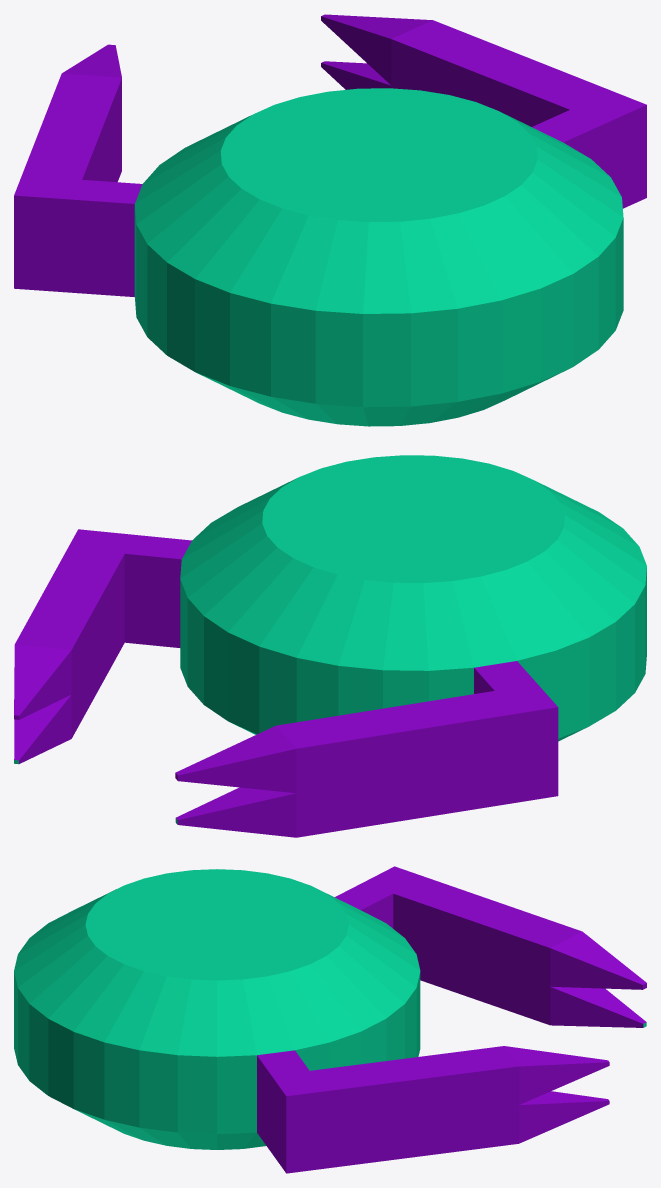
File: Knight.fbx
The picture shows the model from 3 angles, top to bottom: view 1: azimuth 30°, elevation 25°; view 2: azimuth 150°, elevation 25°; view 3: azimuth 270°, elevation 25°; orthographic projection. The views are drawn at different scales.
Visible parts, largest first — view 1: Circle; view 2: Circle; view 3: Circle.
Boxes of the visible parts, x1=… form: Circle: x1=14, y1=14, x2=646, y2=426; Circle: x1=14, y1=455, x2=646, y2=837; Circle: x1=14, y1=866, x2=646, y2=1173.
Bounding box in the file's own units: 268 × 92.07 × 311.
